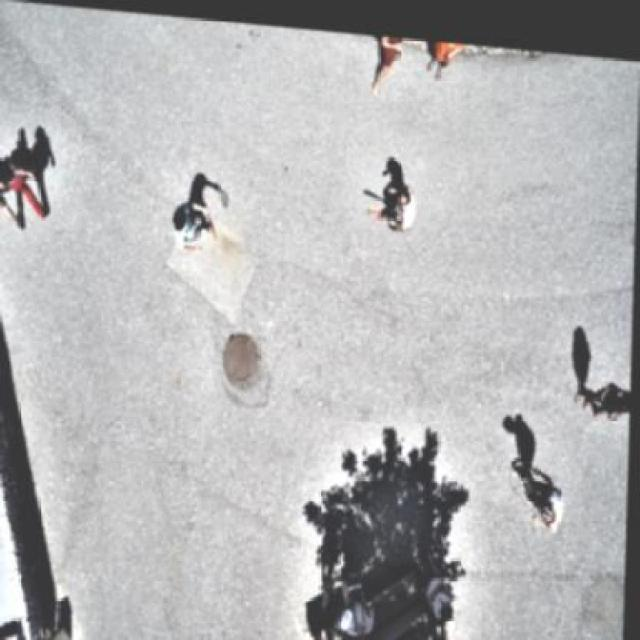Person: (0, 146, 62, 222), (572, 352, 632, 423), (157, 185, 214, 257), (362, 28, 404, 97), (371, 169, 417, 228), (532, 463, 565, 534), (427, 32, 467, 77)
